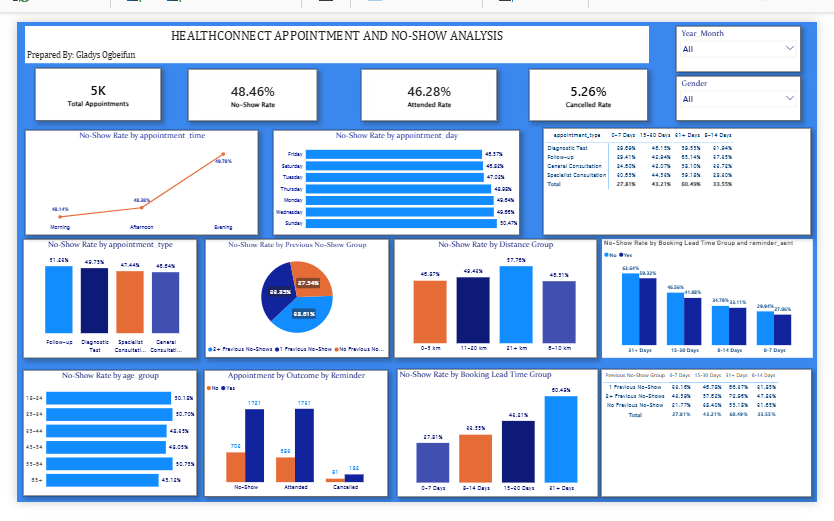

The page's visual inventory and layout, read from the dashboard file:
{"tool":"powerbi","page":{"name":"Overview Dashboard","canvas":[2100,1600],"ordinal":0},"visuals":[{"type":"clusteredColumnChart","fields":{"Category":["HealthConnect_Appointment_Data.appointment_type"],"Y":["Key Measures.No-Show Rate"]},"box":[17.5,555,692.5,332.5],"z":0},{"type":"clusteredBarChart","fields":{"Category":["HealthConnect_Appointment_Data.age_group"],"Y":["Key Measures.No-Show Rate"]},"box":[1445,560,635,327.5],"z":1000},{"type":"clusteredBarChart","fields":{"Category":["HealthConnect_Appointment_Data.appointment_day"],"Y":["Key Measures.No-Show Rate"]},"box":[777.5,270,687.5,262.5],"z":2000},{"type":"clusteredColumnChart","fields":{"Y":["Key Measures.No-Show Rate"],"Category":["HealthConnect_Appointment_Data.Booking Lead Time Group"]},"box":[587.5,907.5,530,340],"z":3000},{"type":"pieChart","fields":{"Category":["HealthConnect_Appointment_Data.Previous No-Show Group"],"Y":["Key Measures.No-Show Rate"]},"box":[777.5,557.5,615,330],"z":4000},{"type":"clusteredColumnChart","title":"Appointment by Outcome by Reminder","fields":{"Category":["HealthConnect_Appointment_Data.appointment_outcome"],"Series":["HealthConnect_Appointment_Data.reminder_sent"],"Y":["Key Measures.Total Appointments"]},"box":[15,907.5,555,340],"z":5000},{"type":"clusteredColumnChart","fields":{"Category":["HealthConnect_Appointment_Data.Distance Group"],"Y":["Key Measures.No-Show Rate"]},"box":[10,1262.5,507.5,330],"z":6000},{"type":"lineChart","fields":{"Category":["HealthConnect_Appointment_Data.appointment_time"],"Y":["Key Measures.No-Show Rate"]},"box":[20,270,690,262.5],"z":7000},{"type":"textbox","box":[20,10,1560,93.3],"z":8000},{"type":"cardVisual","fields":{"Data":["Key Measures.Total Appointments"]},"box":[44.1,114.7,314.7,132.4],"z":9000},{"type":"cardVisual","fields":{"Data":["Key Measures.No-Show Rate"]},"box":[426.7,116.7,323.3,130],"z":10000},{"type":"cardVisual","fields":{"Data":["Key Measures.Attended Rate"]},"box":[860,116.7,340,130],"z":11000},{"type":"cardVisual","fields":{"Data":["Key Measures.Cancelled Rate"]},"box":[1280,116.7,296.7,130],"z":12000},{"type":"slicer","fields":{"Values":["Date.Year"]},"box":[1647.1,8.8,311.8,114.7],"z":13000},{"type":"slicer","fields":{"Values":["HealthConnect_Appointment_Data.gender"]},"box":[1647.1,135.3,311.8,111.8],"z":14000},{"type":"pivotTable","fields":{"Columns":["HealthConnect_Appointment_Data.Booking Lead Time Group"],"Rows":["HealthConnect_Appointment_Data.Previous No-Show Group"],"Values":["Key Measures.No-Show Rate"]},"box":[1137.5,907.5,510,340],"z":15000},{"type":"clusteredColumnChart","fields":{"Category":["HealthConnect_Appointment_Data.Booking Lead Time Group"],"Series":["HealthConnect_Appointment_Data.reminder_sent"],"Y":["Key Measures.No-Show Rate"]},"box":[542.5,1270,552.5,317.5],"z":16000},{"type":"pivotTable","fields":{"Values":["Key Measures.No-Show Rate"],"Rows":["HealthConnect_Appointment_Data.appointment_type"],"Columns":["HealthConnect_Appointment_Data.Booking Lead Time Group"]},"box":[1535,270,545,262.5],"z":17000},{"type":"pivotTable","fields":{"Values":["Key Measures.No-Show Rate (History x LeadTime Test)"],"Rows":["HealthConnect_Appointment_Data.Previous No-Show Group"]},"box":[1627.5,1262.5,452.5,325],"z":17001},{"type":"pivotTable","fields":{"Rows":["HealthConnect_Appointment_Data.appointment_type"],"Values":["Key Measures.No-Show Rate (Type x LeadTime Test)"]},"box":[1122.5,1262.5,487.5,330],"z":17002},{"type":"pivotTable","fields":{"Values":["Key Measures.No-Show Rate (Reminder Test)"],"Rows":["HealthConnect_Appointment_Data.reminder_sent"]},"box":[1667.5,907.5,412.5,340],"z":17003}]}

Visuals, with their boxes on the page's 2100x1600 design canvas (x1, y1, x2, y2). These are canvas units, not pixel positions in the 834x521 screenshot, which may show the page scaled, cropped or inside an application window:
clusteredColumnChart - HealthConnect_Appointment_Data.appointment_type x Key Measures.No-Show Rate: 18,555,710,888
clusteredBarChart - HealthConnect_Appointment_Data.age_group x Key Measures.No-Show Rate: 1445,560,2080,888
clusteredBarChart - HealthConnect_Appointment_Data.appointment_day x Key Measures.No-Show Rate: 778,270,1465,532
clusteredColumnChart - Key Measures.No-Show Rate x HealthConnect_Appointment_Data.Booking Lead Time Group: 588,908,1118,1248
pieChart - HealthConnect_Appointment_Data.Previous No-Show Group x Key Measures.No-Show Rate: 778,558,1392,888
"Appointment by Outcome by Reminder" clusteredColumnChart: 15,908,570,1248
clusteredColumnChart - HealthConnect_Appointment_Data.Distance Group x Key Measures.No-Show Rate: 10,1262,518,1592
lineChart - HealthConnect_Appointment_Data.appointment_time x Key Measures.No-Show Rate: 20,270,710,532
textbox: 20,10,1580,103
cardVisual - Key Measures.Total Appointments: 44,115,359,247
cardVisual - Key Measures.No-Show Rate: 427,117,750,247
cardVisual - Key Measures.Attended Rate: 860,117,1200,247
cardVisual - Key Measures.Cancelled Rate: 1280,117,1577,247
slicer - Date.Year: 1647,9,1959,124
slicer - HealthConnect_Appointment_Data.gender: 1647,135,1959,247
pivotTable - HealthConnect_Appointment_Data.Booking Lead Time Group x HealthConnect_Appointment_Data.Previous No-Show Group: 1138,908,1648,1248
clusteredColumnChart - HealthConnect_Appointment_Data.Booking Lead Time Group x HealthConnect_Appointment_Data.reminder_sent: 542,1270,1095,1588
pivotTable - Key Measures.No-Show Rate x HealthConnect_Appointment_Data.appointment_type: 1535,270,2080,532
pivotTable - Key Measures.No-Show Rate (History x LeadTime Test) x HealthConnect_Appointment_Data.Previous No-Show Group: 1628,1262,2080,1588
pivotTable - HealthConnect_Appointment_Data.appointment_type x Key Measures.No-Show Rate (Type x LeadTime Test): 1122,1262,1610,1592
pivotTable - Key Measures.No-Show Rate (Reminder Test) x HealthConnect_Appointment_Data.reminder_sent: 1668,908,2080,1248
